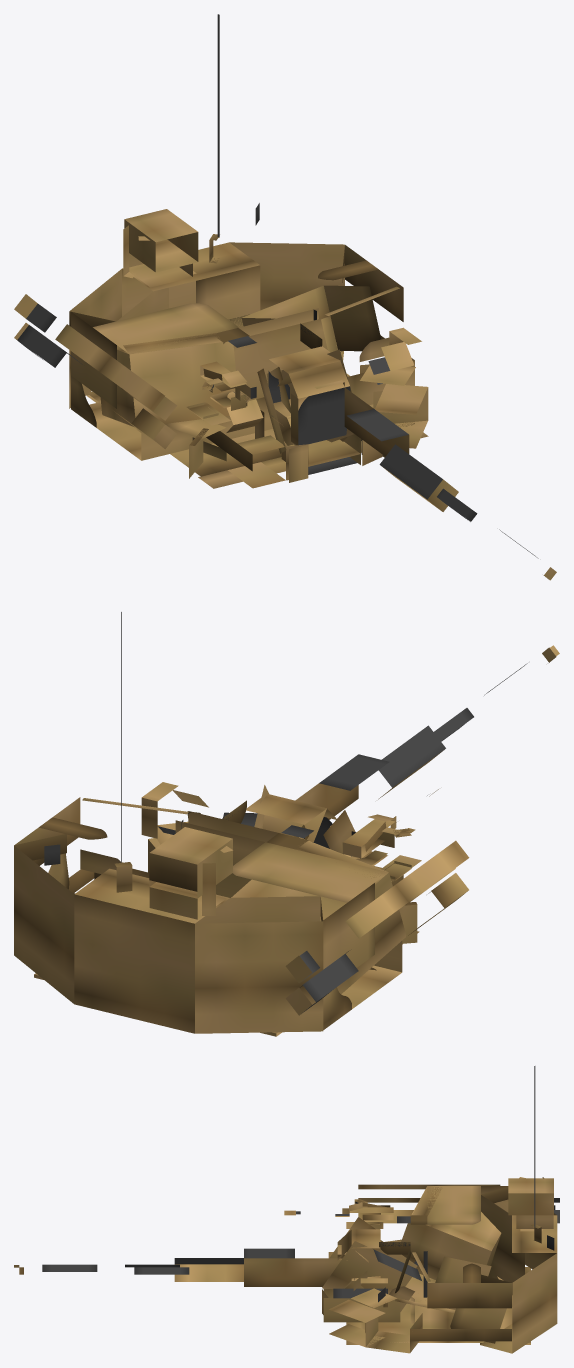
The model's file is t15_turret.obj.
3 renders of one model, top to bottom at view 1: azimuth 30°, elevation 25°; view 2: azimuth 150°, elevation 25°; view 3: azimuth 270°, elevation 25°, orthographic. The views are drawn at different scales.
Visible parts, largest first — view 1: turret, gun, mgun; view 2: turret, gun, mgun; view 3: turret, gun, mgun.
Part boxes in pixels (x1,y1,x2,y2): turret: (14,14,428,488); gun: (268,346,556,580); mgun: (186,361,280,425); turret: (14,612,469,1036); gun: (246,645,559,848); mgun: (342,789,438,881); turret: (322,1066,559,1353); gun: (14,1229,380,1288); mgun: (284,1199,393,1228).
Size of the model in its own units: 3.46 by 3.96 by 7.48.
